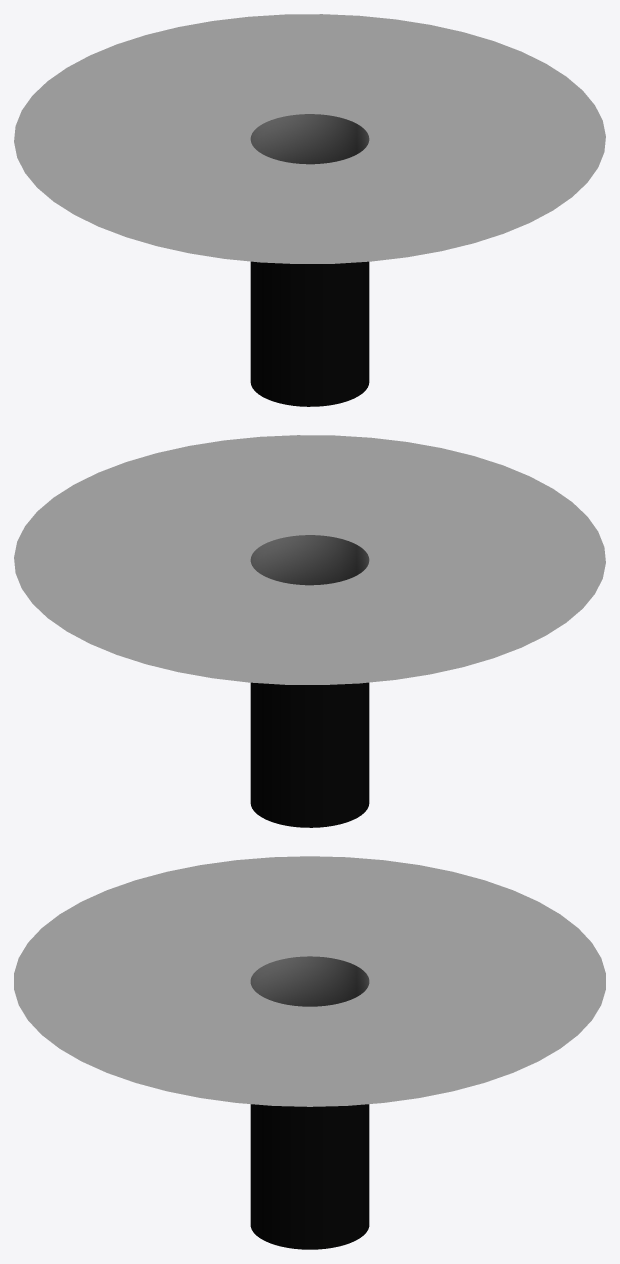
The model's file is Hole.fbx.
3 renders of one model, top to bottom at view 1: azimuth 30°, elevation 25°; view 2: azimuth 150°, elevation 25°; view 3: azimuth 270°, elevation 25°, orthographic.
Parts seen in each view (by area): view 1: Top, Bot; view 2: Top, Bot; view 3: Top, Bot.
Boxes of the visible parts, left/top/right/bottom form: Top: left=14, top=14, right=605, bottom=263; Bot: left=250, top=114, right=369, bottom=406; Top: left=14, top=435, right=605, bottom=684; Bot: left=250, top=535, right=369, bottom=827; Top: left=14, top=856, right=605, bottom=1106; Bot: left=250, top=956, right=369, bottom=1249.
Bounding box in the file's own units: 997 × 451 × 995.
2 materials, 1 textured.
